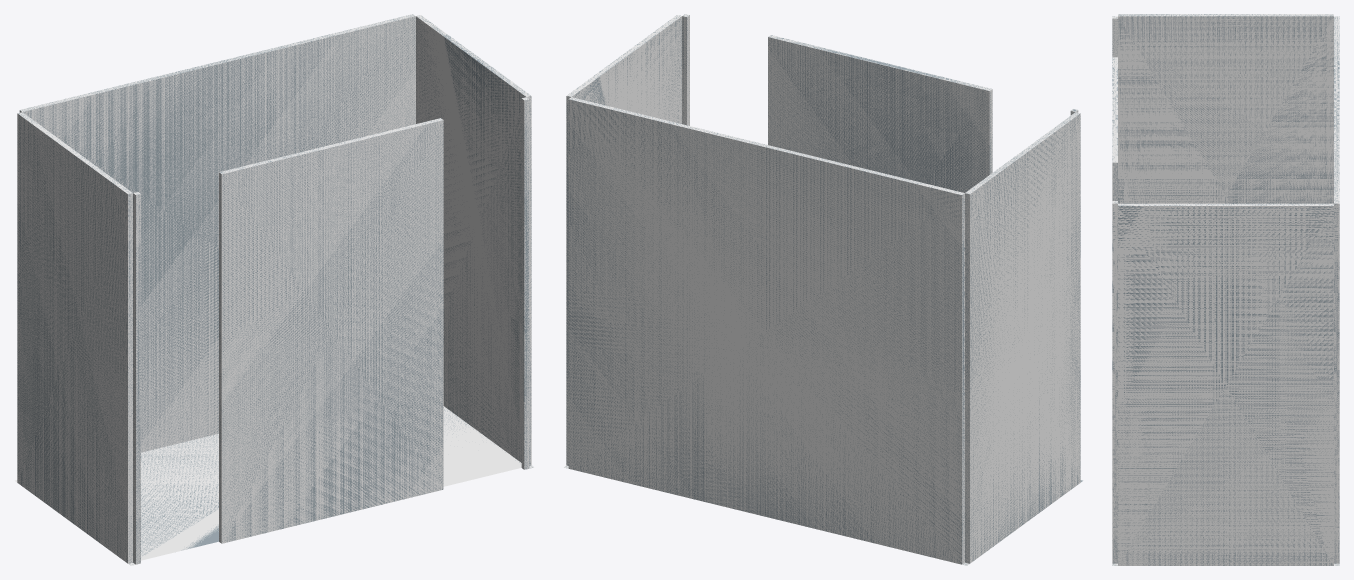
Rendered from Raum1.fbx.
The picture shows the model from 3 angles, left to right: view 1: azimuth 30°, elevation 25°; view 2: azimuth 150°, elevation 25°; view 3: azimuth 270°, elevation 25°; orthographic projection. The views are drawn at different scales.
Parts seen in each view (by area): view 1: Model; view 2: Model; view 3: Model.
Boxes of the visible parts, left/top/right/bottom form: Model: left=15, top=14, right=533, bottom=565; Model: left=564, top=14, right=1082, bottom=565; Model: left=1112, top=14, right=1339, bottom=565.
Bounding box in the file's own units: 4 × 3.5 × 2.
